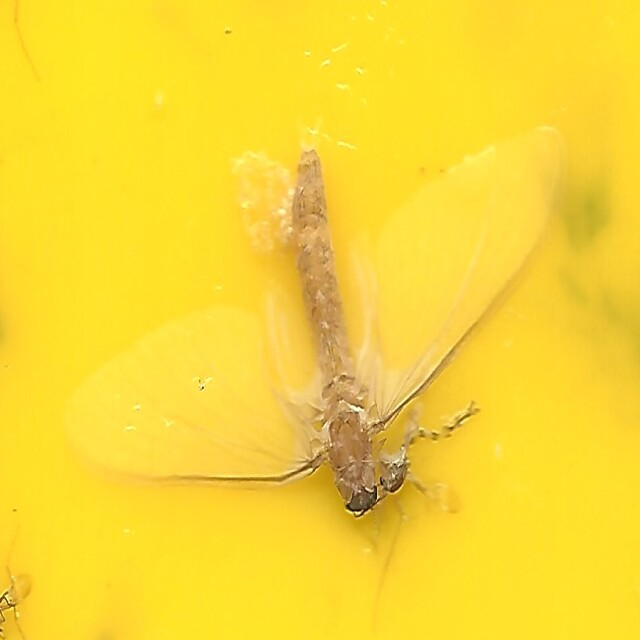Ephemeroptera: (70, 111, 570, 529)
